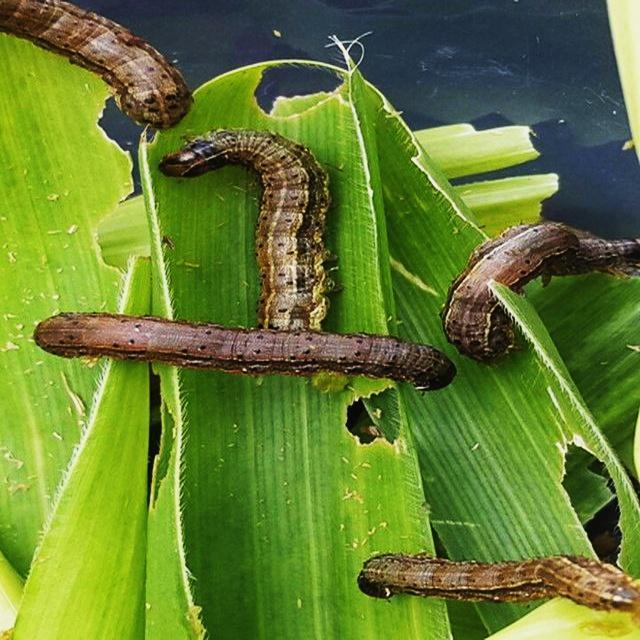gusano_cogollero: (31, 312, 458, 401)
